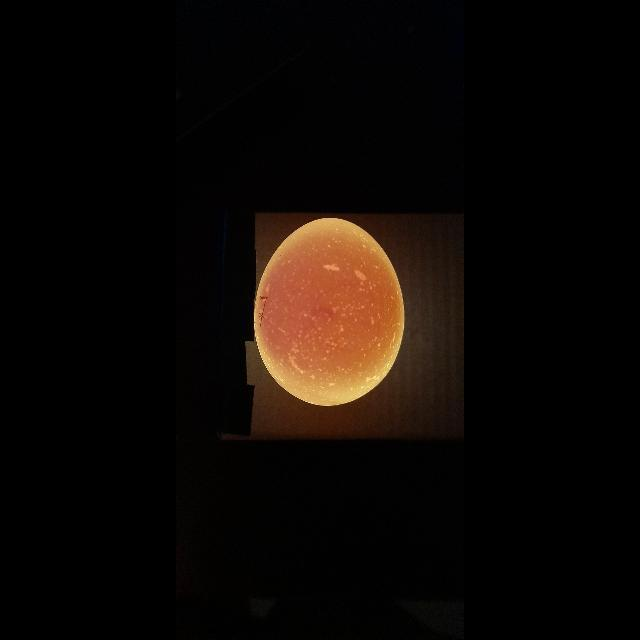Fertile: (259, 213, 405, 413)
